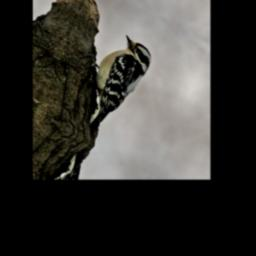Woodpecker: (57, 18, 158, 152)
